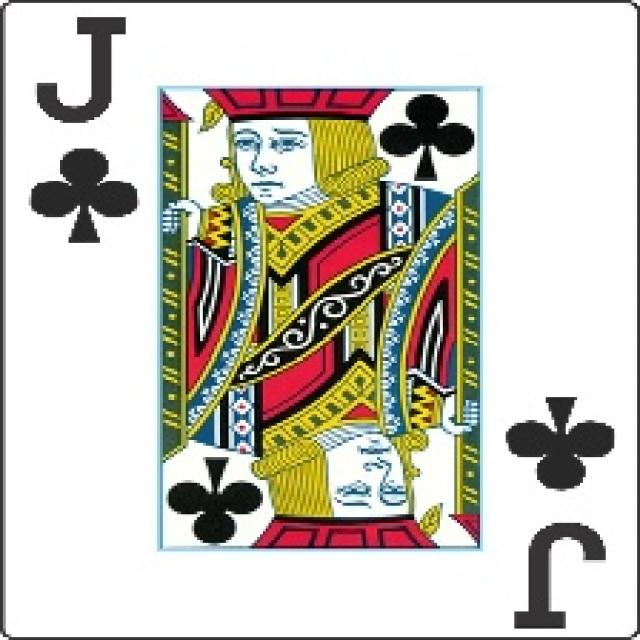Club: (30, 148, 138, 244), (506, 396, 614, 490), (168, 456, 263, 544), (379, 94, 474, 180)
Jack: (514, 521, 606, 629), (35, 18, 127, 123)
